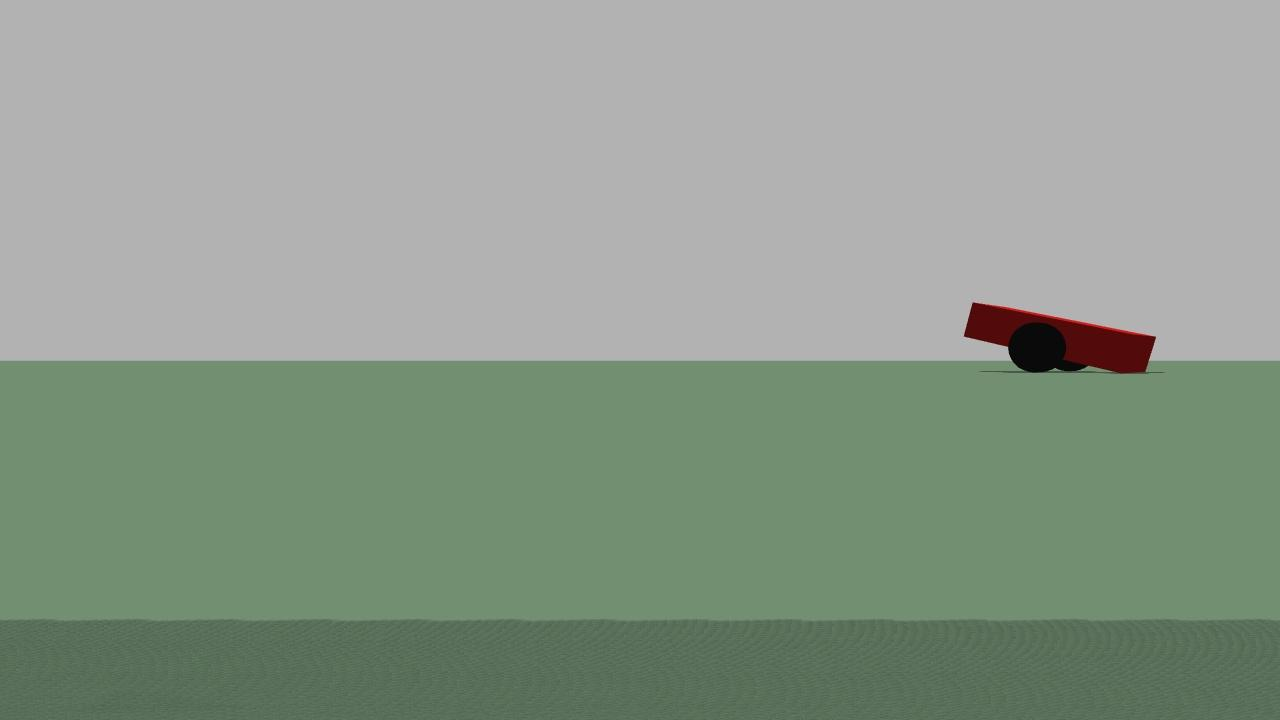ground_vehicle: (957, 290, 1161, 388)
